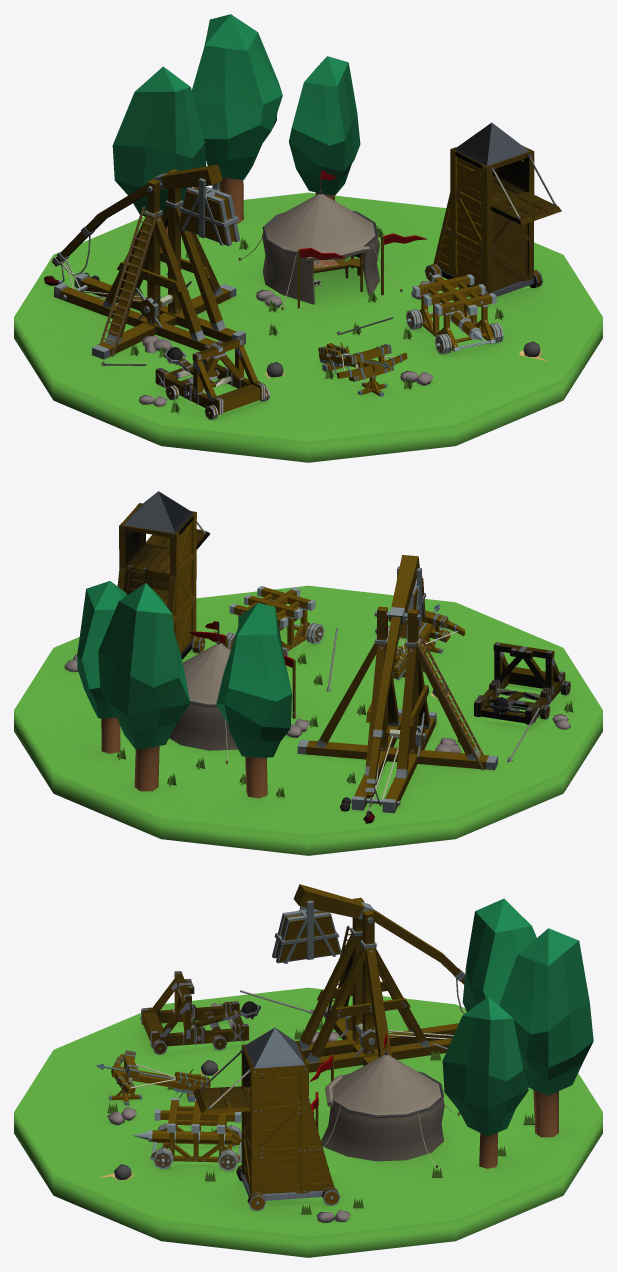
File: battering_ram.glb
3 renders of one model, top to bottom at view 1: azimuth 30°, elevation 25°; view 2: azimuth 150°, elevation 25°; view 3: azimuth 270°, elevation 25°, orthographic.
Parts seen in each view (by area): view 1: Object_5, Object_8, Object_7, Object_4, Object_6, Object_3, Object_2; view 2: Object_5, Object_8, Object_7, Object_4, Object_6, Object_3, Object_2; view 3: Object_5, Object_8, Object_7, Object_4, Object_6, Object_3, Object_2.
Boxes of the visible parts, bbox=[...] form: Object_5: bbox=[14, 14, 602, 462]; Object_8: bbox=[44, 164, 245, 359]; Object_7: bbox=[425, 122, 561, 306]; Object_4: bbox=[238, 171, 427, 310]; Object_6: bbox=[155, 337, 270, 419]; Object_3: bbox=[406, 274, 503, 354]; Object_2: bbox=[318, 342, 407, 396]; Object_5: bbox=[14, 581, 602, 855]; Object_8: bbox=[297, 555, 497, 823]; Object_7: bbox=[117, 491, 209, 659]; Object_4: bbox=[169, 621, 308, 763]; Object_6: bbox=[474, 642, 570, 724]; Object_3: bbox=[222, 586, 324, 656]; Object_2: bbox=[388, 604, 465, 679]; Object_5: bbox=[14, 898, 602, 1257]; Object_8: bbox=[272, 884, 465, 1072]; Object_7: bbox=[193, 1027, 340, 1211]; Object_4: bbox=[309, 1032, 459, 1167]; Object_6: bbox=[140, 971, 260, 1054]; Object_3: bbox=[132, 1098, 241, 1171]; Object_2: bbox=[96, 1050, 210, 1105].
Size of the model in its own units: 22.09 by 9.35 by 22.09.
Materials: 7 (7 with a texture image).
